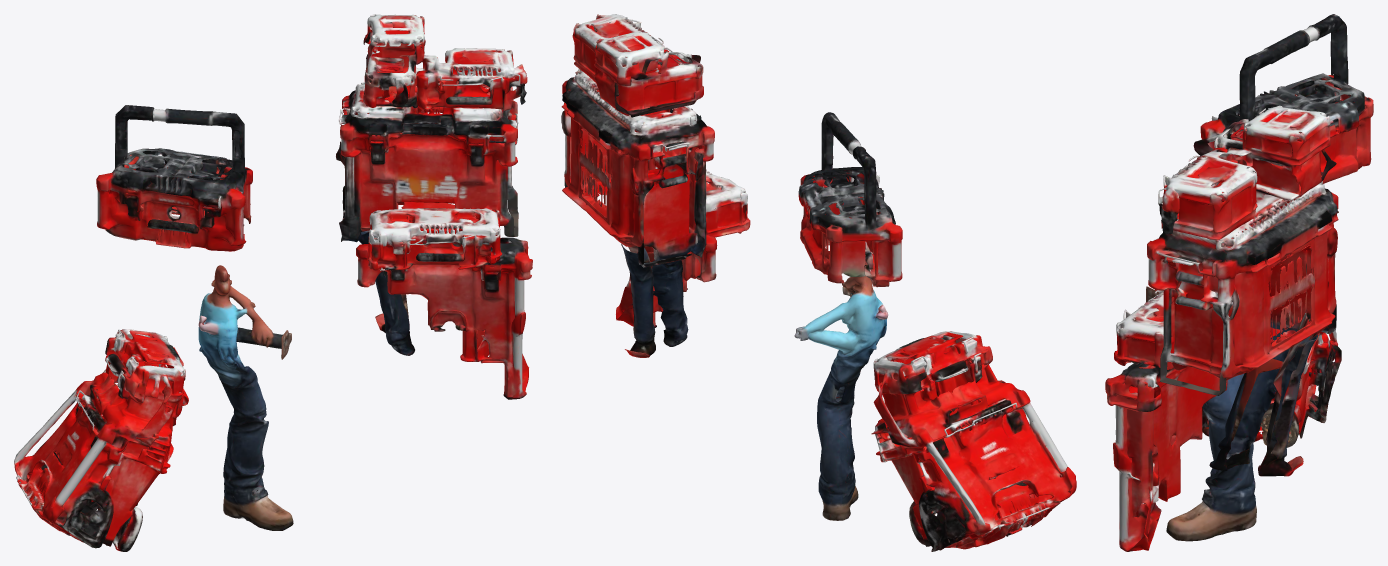
The model's file is packout.glb.
The picture shows the model from 3 angles, left to right: view 1: azimuth 30°, elevation 25°; view 2: azimuth 150°, elevation 25°; view 3: azimuth 270°, elevation 25°; orthographic projection. The views are drawn at different scales.
Parts seen in each view (by area): view 1: geometry_0; view 2: geometry_0; view 3: geometry_0.
Boxes of the visible parts, x1,y1,x2,y2 form: geometry_0: [14, 14, 532, 551]; geometry_0: [561, 14, 1076, 551]; geometry_0: [1105, 14, 1373, 551].
Bounding box in the file's own units: 0.8162 × 0.6934 × 0.3303.
1 material, 1 textured.
